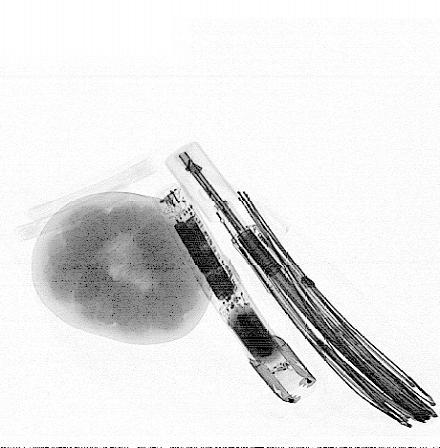Baton: (153, 180, 317, 404)
